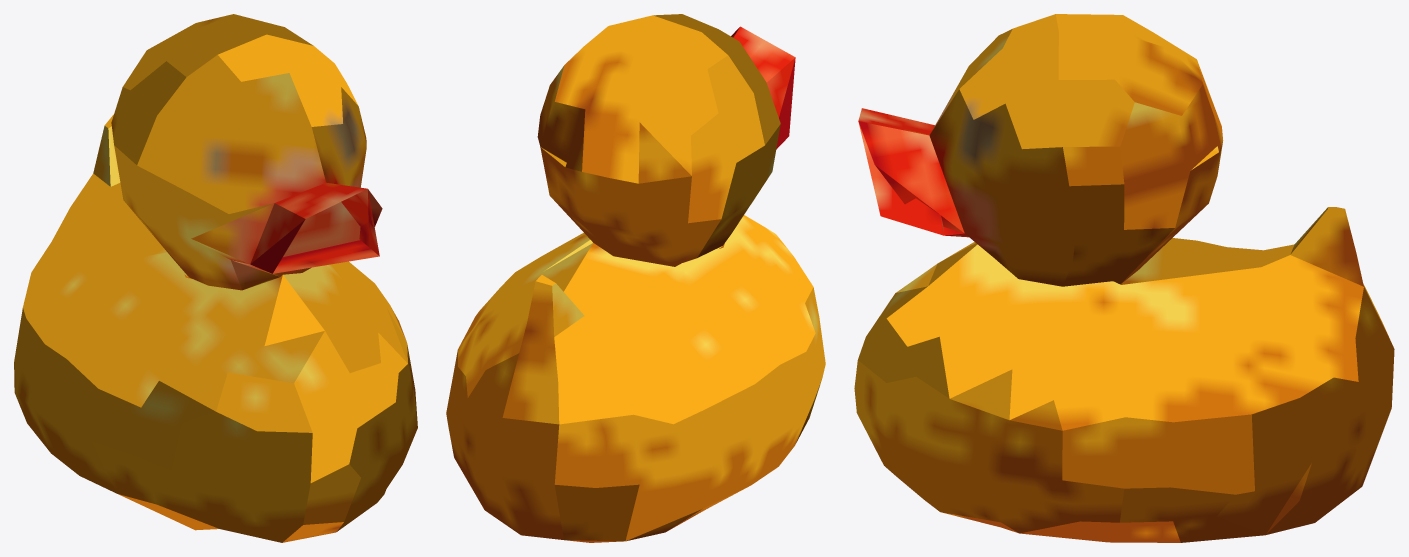
File: rubber_duck.obj
3 views of the same model, side by side, from view 1: azimuth 30°, elevation 25°; view 2: azimuth 150°, elevation 25°; view 3: azimuth 270°, elevation 25° (orthographic). The views are drawn at different scales.
Parts seen in each view (by area): view 1: mesh; view 2: mesh; view 3: mesh.
Boxes of the visible parts, x1,y1,x2,y2 form: mesh: (14, 14, 417, 542); mesh: (446, 14, 825, 542); mesh: (854, 14, 1394, 542).
Bounding box in the file's own units: 12.08 × 16 × 16.81.
1 material, 1 textured.
